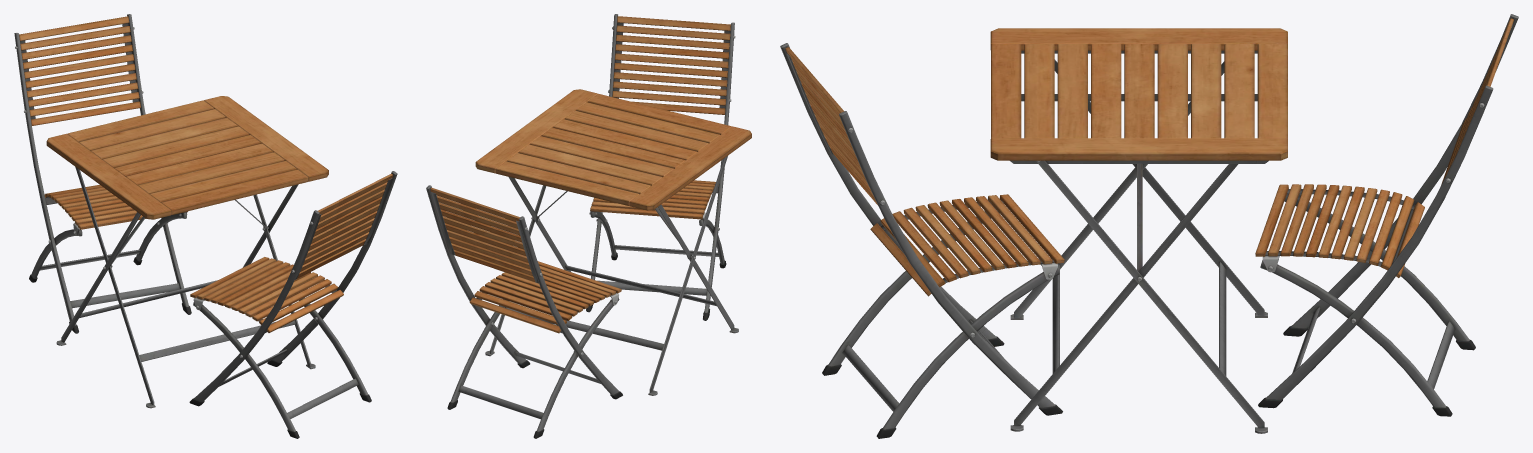
The model's file is outdoor_table_chair_set_01.glb.
3 renders of one model, left to right at view 1: azimuth 30°, elevation 25°; view 2: azimuth 150°, elevation 25°; view 3: azimuth 270°, elevation 25°, orthographic. The views are drawn at different scales.
Parts seen in each view (by area): view 1: outdoor_table_chair_set_01_table, outdoor_table_chair_set_01_chair_02, outdoor_table_chair_set_01_chair_01; view 2: outdoor_table_chair_set_01_table, outdoor_table_chair_set_01_chair_02, outdoor_table_chair_set_01_chair_01; view 3: outdoor_table_chair_set_01_table, outdoor_table_chair_set_01_chair_01, outdoor_table_chair_set_01_chair_02.
Boxes of the visible parts, x1,y1,x2,y2 form: outdoor_table_chair_set_01_table: [46, 96, 328, 408]; outdoor_table_chair_set_01_chair_02: [14, 14, 191, 333]; outdoor_table_chair_set_01_chair_01: [189, 171, 397, 438]; outdoor_table_chair_set_01_table: [475, 89, 751, 395]; outdoor_table_chair_set_01_chair_02: [426, 185, 622, 438]; outdoor_table_chair_set_01_chair_01: [586, 14, 735, 320]; outdoor_table_chair_set_01_table: [990, 28, 1287, 433]; outdoor_table_chair_set_01_chair_01: [780, 43, 1064, 438]; outdoor_table_chair_set_01_chair_02: [1255, 14, 1518, 416].
Size of the model in its own units: 0.7418 by 0.8586 by 1.72.
Materials: 2 (2 with a texture image).
